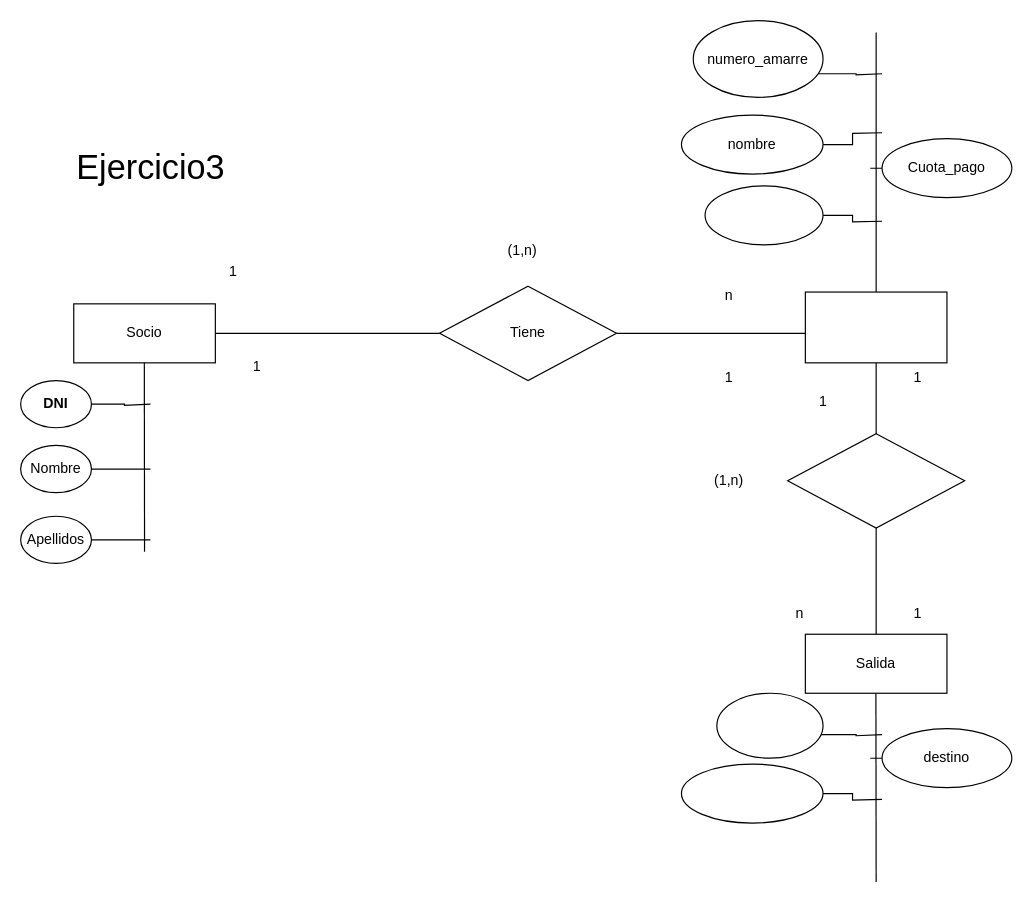
Image size: 1033x904. Some labels were removed from this diagram. The box of each missing label's shape, as (x1, y1, x2, y2) in pixels:
Barco: (804, 291, 947, 363)
datos_personales: (680, 763, 823, 823)
fecha_salida: (716, 692, 823, 758)
num_matricula: (704, 185, 823, 245)
Realiza: (786, 432, 965, 528)
